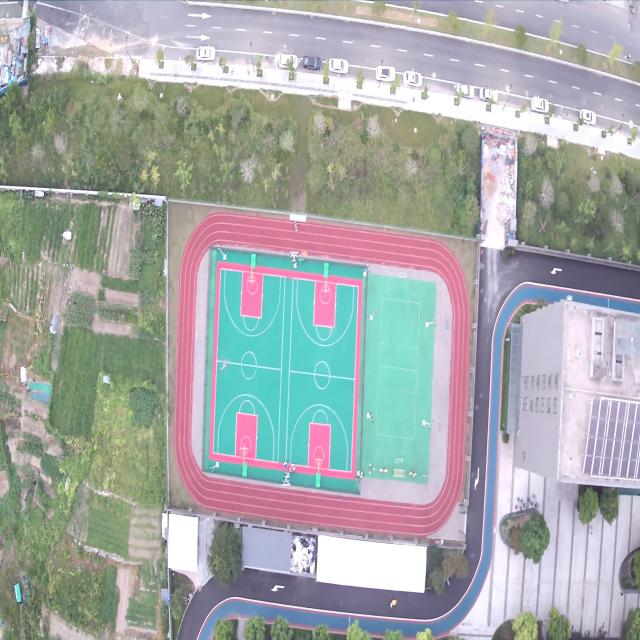UAV: (218, 355, 231, 373)
